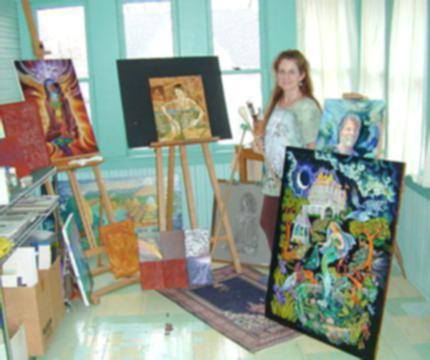Otro Obstaculo: (6, 59, 134, 286), (263, 156, 403, 343), (143, 46, 242, 287), (136, 217, 215, 294)
